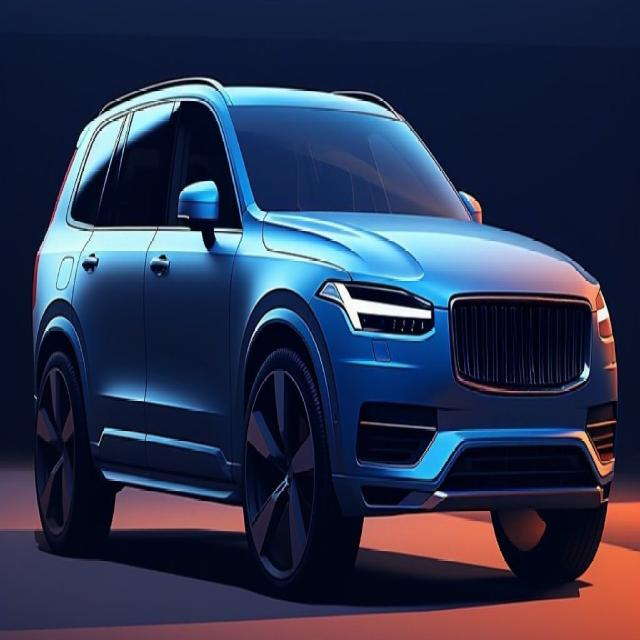SUV: (31, 75, 624, 603)
